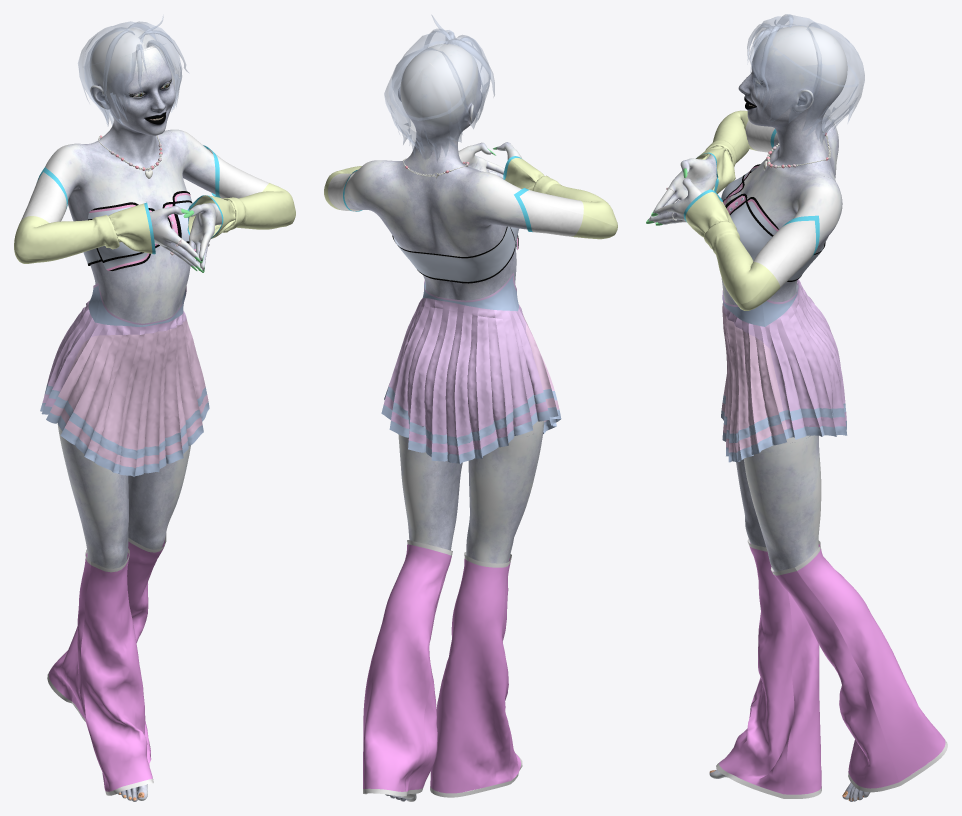
The model's file is Avatar_Domi_draco2.glb.
The picture shows the model from 3 angles, left to right: view 1: azimuth 30°, elevation 25°; view 2: azimuth 150°, elevation 25°; view 3: azimuth 270°, elevation 25°; orthographic projection. The views are drawn at different scales.
Parts seen in each view (by area): view 1: Genesis9.001, Garment_Domi_Skirt, Garment_Domi_Legs, Garment_Domi_Sleeves, hair, Garment_Domi_Top; view 2: Genesis9.001, Garment_Domi_Legs, Garment_Domi_Skirt, hair, Garment_Domi_Sleeves, Garment_Domi_Top; view 3: Garment_Domi_Legs, Genesis9.001, Garment_Domi_Skirt, Garment_Domi_Sleeves, hair, Garment_Domi_Top.
Boxes of the visible parts, x1,y1,x2,y2 form: Genesis9.001: (45, 27, 222, 801); Garment_Domi_Skirt: (40, 283, 209, 476); Garment_Domi_Legs: (47, 533, 166, 795); Garment_Domi_Sleeves: (14, 145, 295, 263); hair: (78, 16, 188, 126); Garment_Domi_Top: (83, 191, 195, 270); Genesis9.001: (344, 44, 544, 801); Garment_Domi_Legs: (363, 540, 522, 797); Garment_Domi_Skirt: (381, 273, 561, 463); hair: (384, 15, 494, 161); Garment_Domi_Sleeves: (324, 156, 617, 239); Garment_Domi_Top: (392, 226, 519, 283); Garment_Domi_Legs: (716, 538, 947, 798); Genesis9.001: (646, 25, 870, 801); Garment_Domi_Skirt: (721, 279, 847, 462); Garment_Domi_Sleeves: (683, 110, 819, 310); hair: (747, 14, 864, 143); Garment_Domi_Top: (721, 164, 825, 281).
Bounding box in the file's own units: 70.47 × 180 × 62.23.
23 materials, 19 textured.
